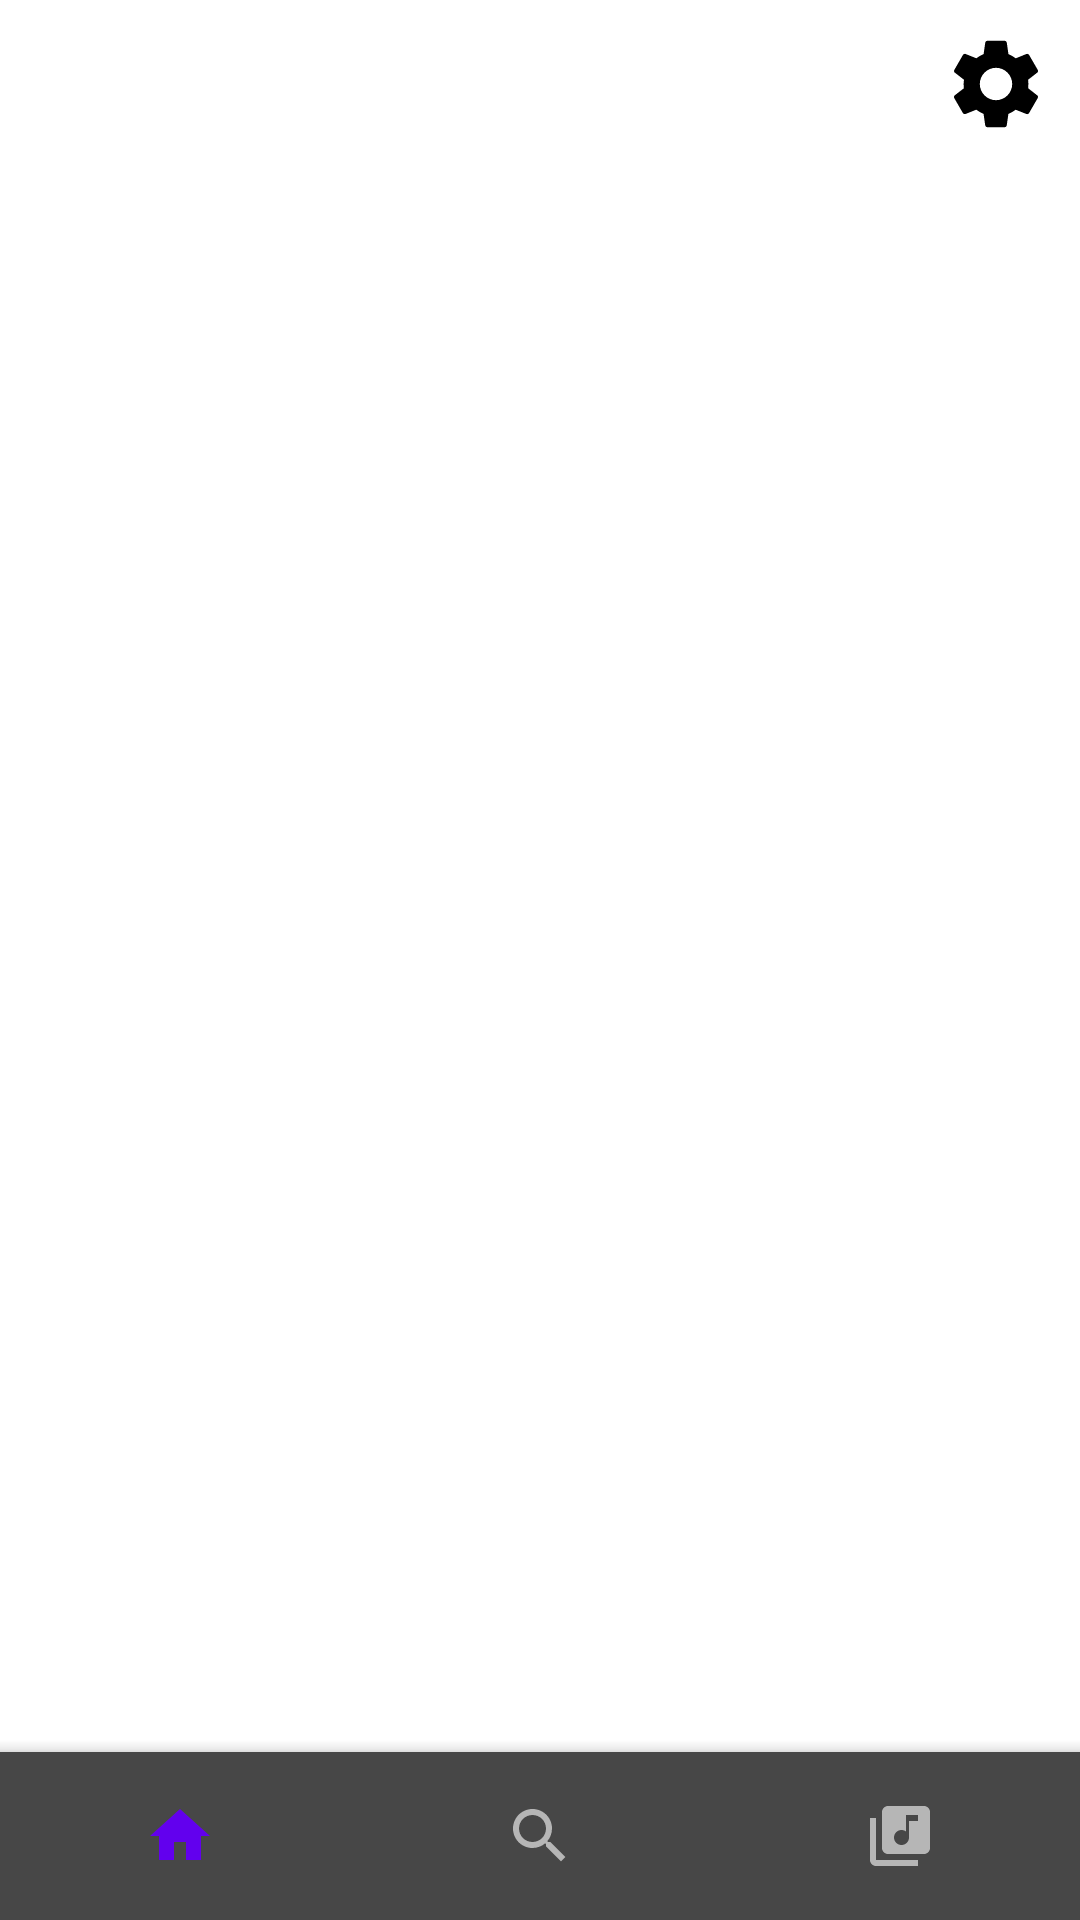

Icon click points for this 1080×1920 phone screenshot, format point (x, y):
settings: point (996, 84)
